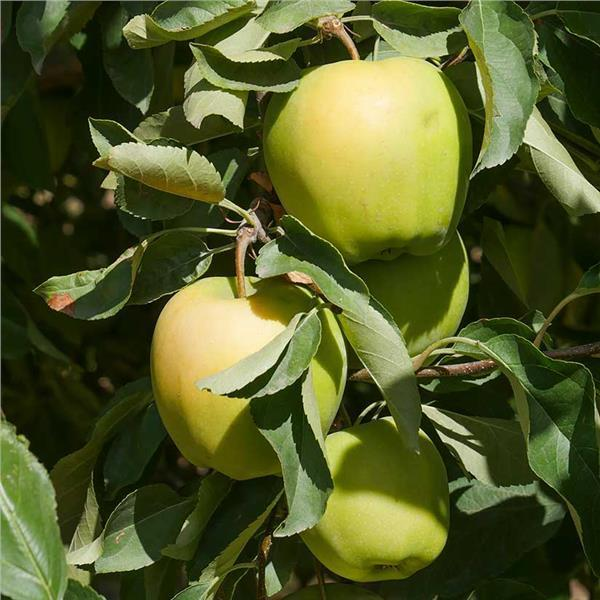apple: (149, 261, 348, 483), (263, 60, 473, 263), (302, 419, 451, 584)
